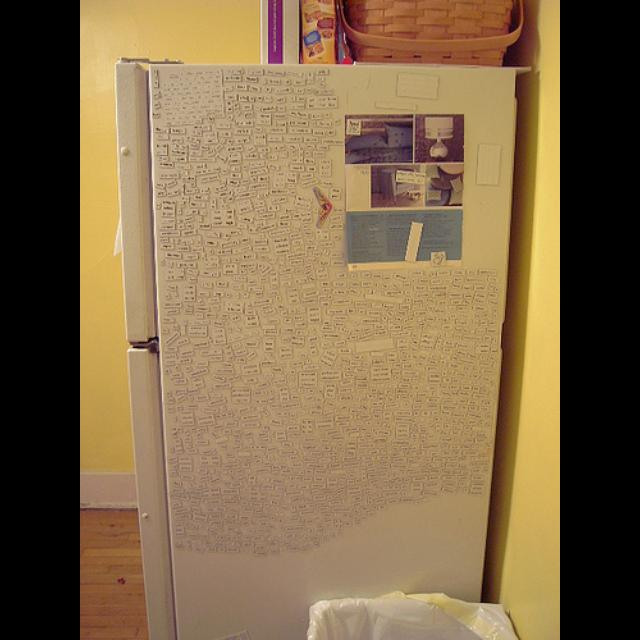Refrigerator: (114, 62, 537, 632)
